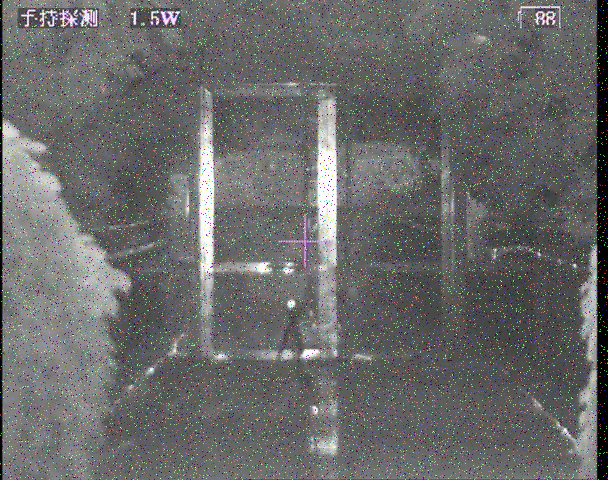my: (286, 298, 296, 309)
